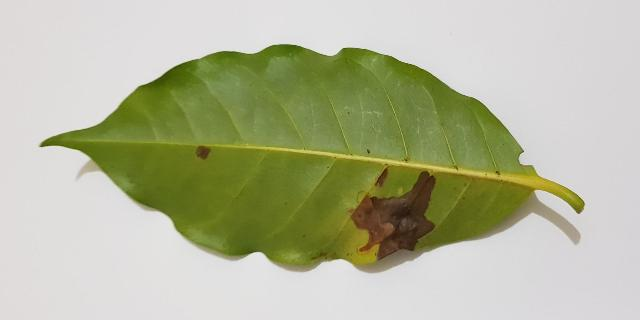cercospora: (349, 172, 436, 260), (376, 169, 387, 186), (197, 147, 210, 159)
